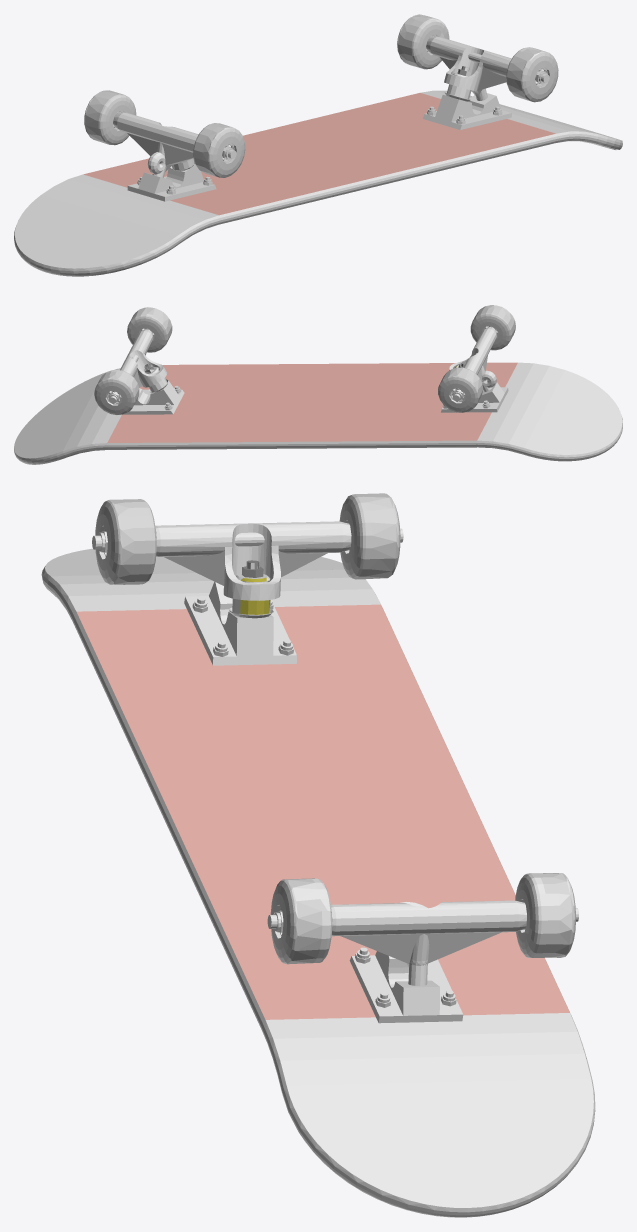
File: fbskateboard.fbx
The picture shows the model from 3 angles, top to bottom: view 1: azimuth 30°, elevation 25°; view 2: azimuth 150°, elevation 25°; view 3: azimuth 270°, elevation 25°; orthographic projection. The views are drawn at different scales.
Visible parts, largest first — view 1: Skateboard; view 2: Skateboard; view 3: Skateboard.
Boxes of the visible parts, bbox=[...] form: Skateboard: bbox=[14, 14, 622, 276]; Skateboard: bbox=[14, 305, 622, 464]; Skateboard: bbox=[41, 493, 595, 1217].
Size of the model in its own units: 7743 by 2358 by 3497.
